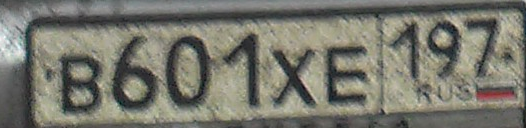character: (160, 29, 214, 112), (109, 31, 162, 113), (220, 29, 271, 110), (268, 43, 321, 112), (319, 45, 373, 107), (58, 53, 107, 118), (425, 14, 465, 82), (464, 17, 502, 78), (390, 18, 424, 82)
